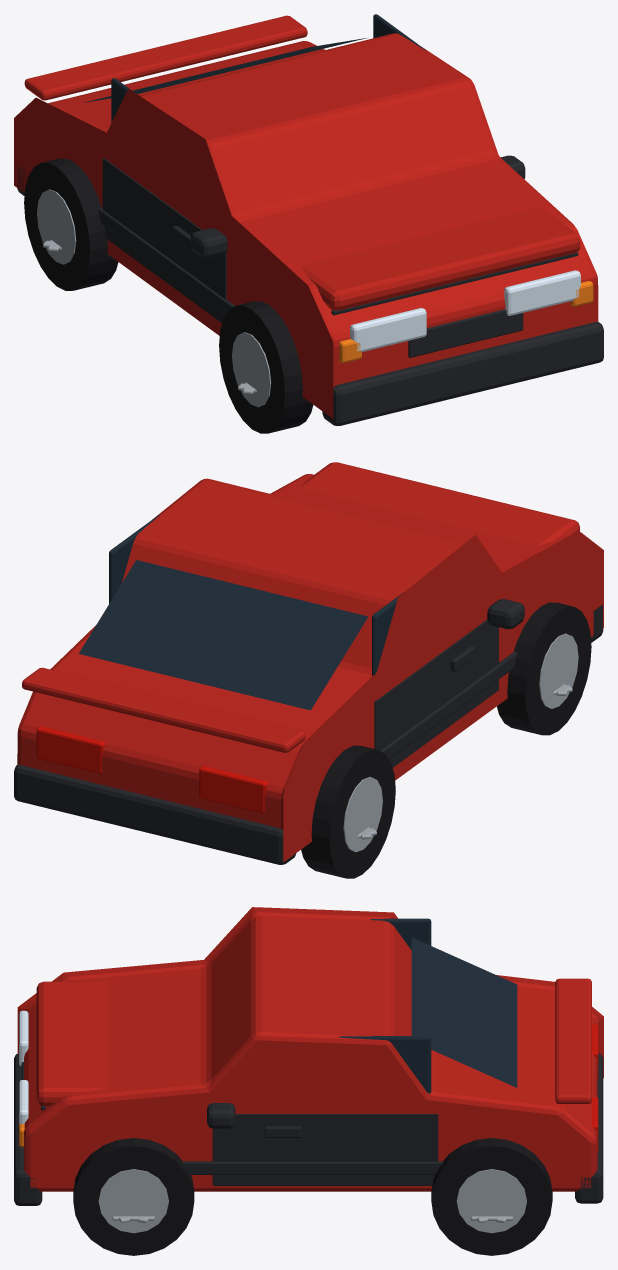
Rendered from CarvinoHatch_93.fbx.
3 views of the same model, one above another, from view 1: azimuth 30°, elevation 25°; view 2: azimuth 150°, elevation 25°; view 3: azimuth 270°, elevation 25° (orthographic). The views are drawn at different scales.
Parts seen in each view (by area): view 1: EG-style body shell, Hood, Front bumper, Rear lip, Door seam, Front -1 Tire, Rear -1 Tire, Front grille, Headlamp.001, Headlamp, Side molding, Rear -1 Wheel (+4 smaller); view 2: EG-style body shell, Flush rear hatch glass, Rear bumper, Hood, Door seam, Rear lip, Rear -1 Tire, Front -1 Tire, Tail lamp.001, Tail lamp, Side molding, Front -1 Wheel (+4 smaller); view 3: EG-style body shell, Door seam.001, Flush rear hatch glass, Hood, Front 1 Tire, Rear 1 Tire, Rear lip, Side molding.001, Front 1 Wheel, Rear 1 Wheel, Door glass.001, Front bumper (+4 smaller).
Part boxes in pixels (<box>): EG-style body shell: <box>14,33,598,418</box>; Hood: <box>301,207,580,310</box>; Front bumper: <box>322,322,603,425</box>; Rear lip: <box>24,15,307,100</box>; Door seam: <box>102,158,226,322</box>; Front -1 Tire: <box>219,301,313,433</box>; Rear -1 Tire: <box>24,158,118,290</box>; Front grille: <box>408,309,523,357</box>; Headlamp.001: <box>504,270,580,315</box>; Headlamp: <box>350,308,426,351</box>; Side molding: <box>98,207,234,314</box>; Rear -1 Wheel: <box>37,189,76,264</box>; EG-style body shell: <box>17,474,603,862</box>; Flush rear hatch glass: <box>78,560,368,710</box>; Rear bumper: <box>14,764,296,864</box>; Hood: <box>299,462,579,545</box>; Door seam: <box>374,619,498,767</box>; Rear lip: <box>22,667,305,752</box>; Rear -1 Tire: <box>301,745,395,878</box>; Front -1 Tire: <box>497,602,591,735</box>; Tail lamp.001: <box>36,726,104,773</box>; Tail lamp: <box>199,766,267,813</box>; Side molding: <box>380,651,517,759</box>; Front -1 Wheel: <box>539,633,578,708</box>; EG-style body shell: <box>17,907,603,1191</box>; Door seam.001: <box>212,1114,438,1185</box>; Flush rear hatch glass: <box>411,937,517,1087</box>; Hood: <box>36,981,108,1106</box>; Front 1 Tire: <box>73,1138,194,1255</box>; Rear 1 Tire: <box>431,1138,552,1255</box>; Rear lip: <box>555,978,591,1103</box>; Side molding.001: <box>182,1161,442,1174</box>; Front 1 Wheel: <box>98,1169,168,1233</box>; Rear 1 Wheel: <box>456,1169,526,1233</box>; Door glass.001: <box>338,1036,431,1093</box>; Front bumper: <box>14,1053,42,1205</box>.
Bounding box in the file's own units: 247 × 172 × 419.
